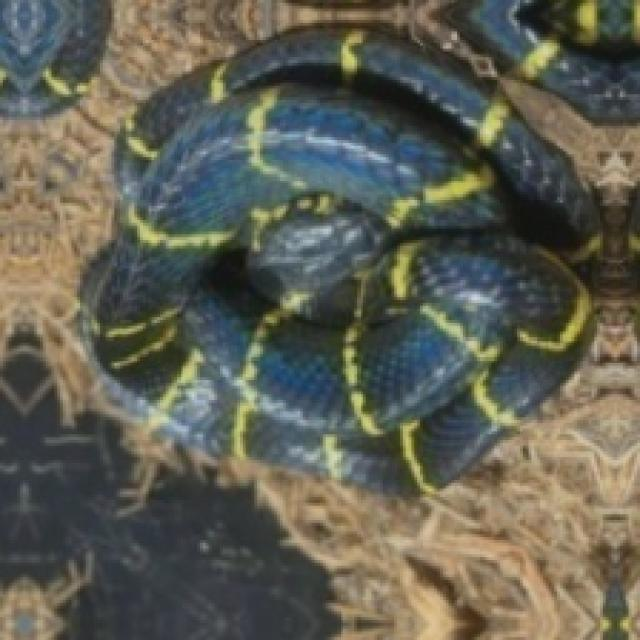mangrove cat snake: (83, 29, 594, 489)
